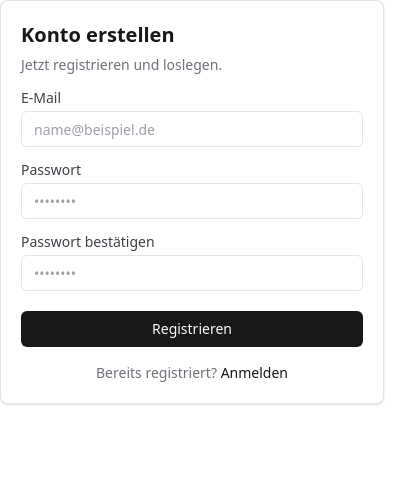
Scenario: RegisterForm (Integration) › zeigt Erfolgsmeldung bei erfolgreicher Registrierung
Type "neuerkunde@example.com" into the field labelled "E-Mail" at (192, 129), box [21,111,363,147]
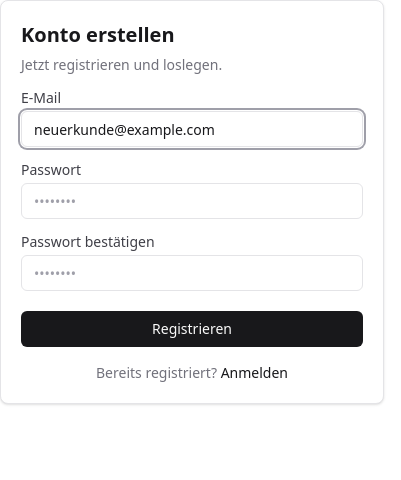
Type "neuesPasswort123" into the password field labelled "Passwort" at (192, 201), box [21,183,363,219]
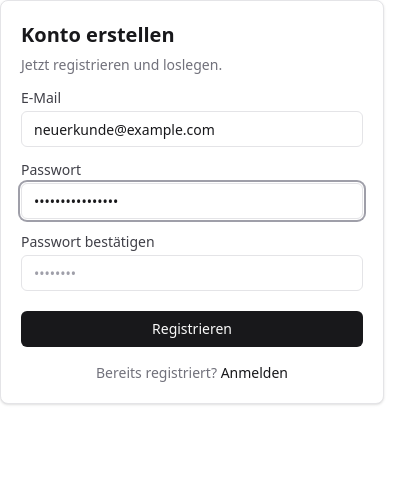
Type "neuesPasswort123" into the password field labelled "Passwort bestätigen" at (192, 273), box [21,255,363,291]
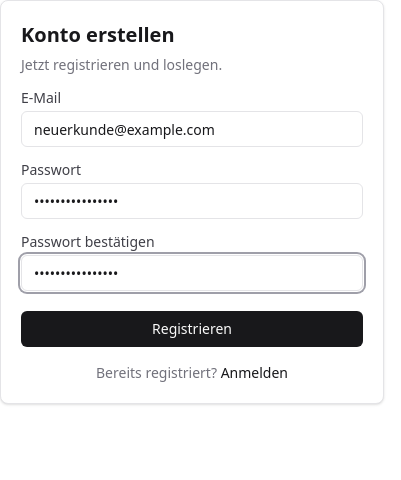
Click the button "Registrieren" at (192, 329), box [21,311,363,347]
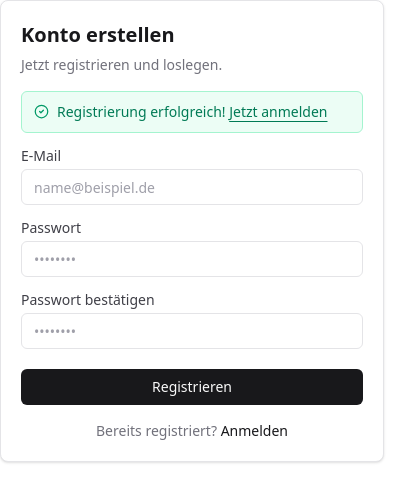
expect the message "Registrierung erfolgreich! Jetzt anmelden" is shown: met, box [21,91,363,133]
